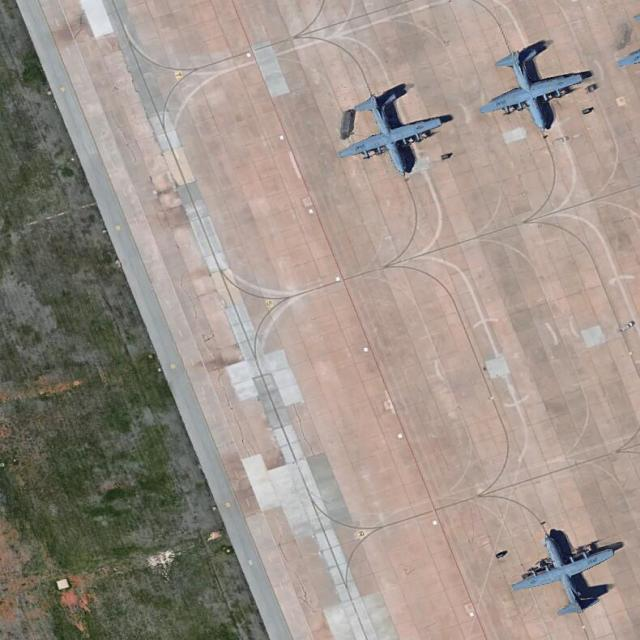fighter jet: (508, 519, 610, 620), (336, 89, 436, 191), (482, 42, 572, 142)
